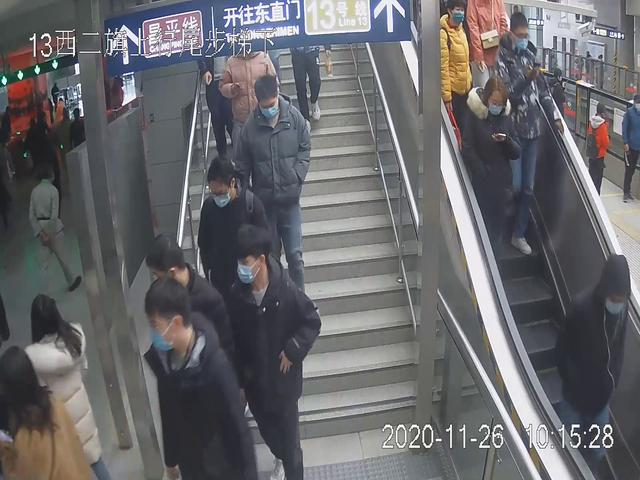person: (227, 220, 322, 480), (138, 272, 253, 480), (232, 72, 317, 310), (553, 250, 637, 480), (494, 9, 551, 260), (462, 74, 521, 272)
